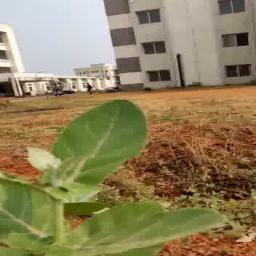Calotropis: (0, 157, 253, 249), (74, 100, 149, 163)
